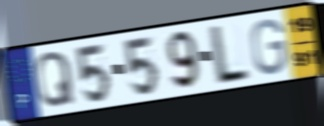5: (74, 40, 114, 105), (122, 33, 162, 97)
9: (163, 28, 202, 92)
G: (250, 17, 289, 78)
L: (209, 22, 251, 88)
Q: (34, 49, 78, 110)
